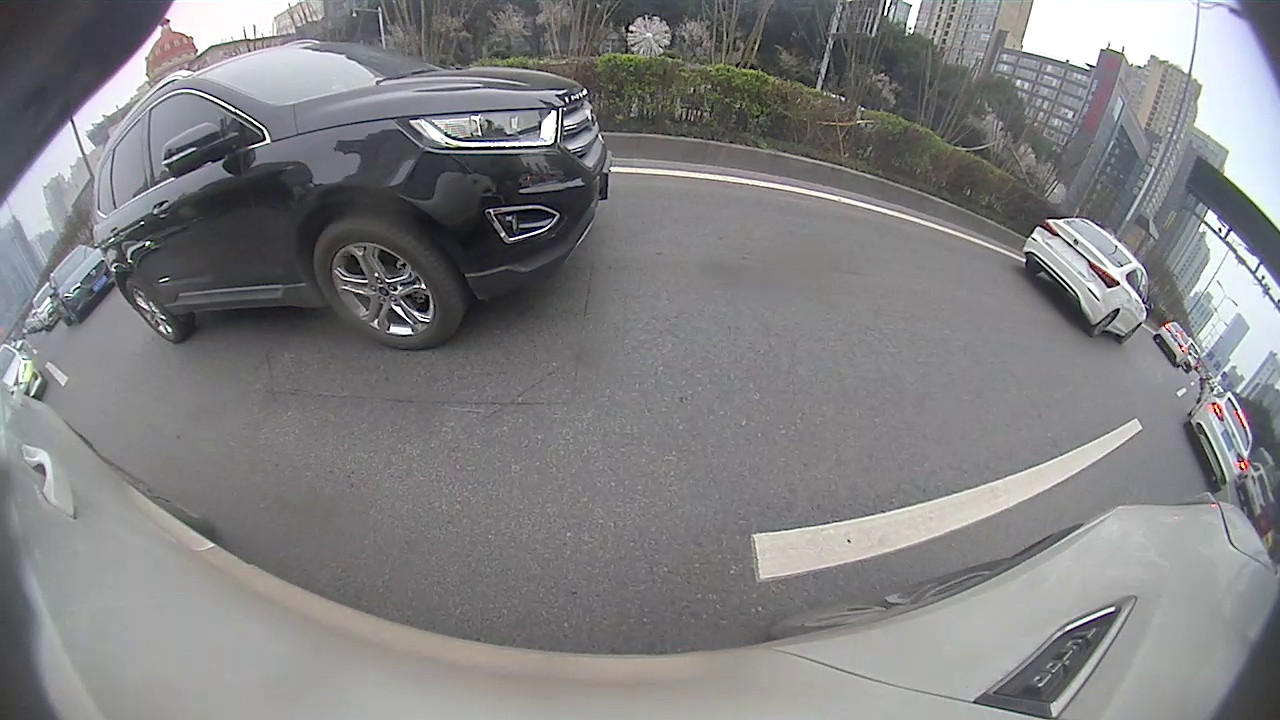car: (91, 38, 613, 353), (1021, 216, 1153, 345), (1183, 388, 1255, 491), (46, 244, 116, 327), (1152, 323, 1193, 370)
front: (312, 217, 462, 354)
rear: (124, 279, 182, 341), (1091, 309, 1118, 338)
